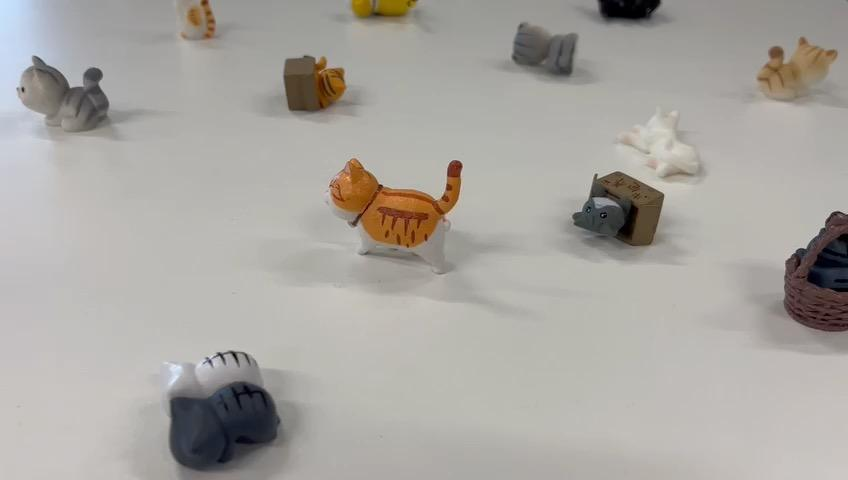pet: (318, 153, 469, 277), (156, 345, 283, 472), (777, 205, 848, 335), (13, 50, 114, 136), (571, 166, 663, 247), (613, 103, 701, 180), (753, 32, 842, 104), (510, 16, 579, 84), (279, 48, 349, 115)
